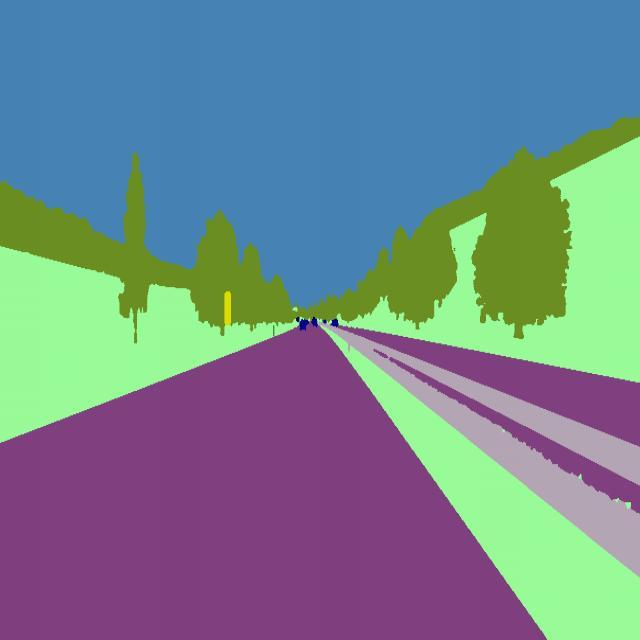safe: (296, 317, 307, 334), (310, 316, 320, 330), (330, 318, 342, 328)
